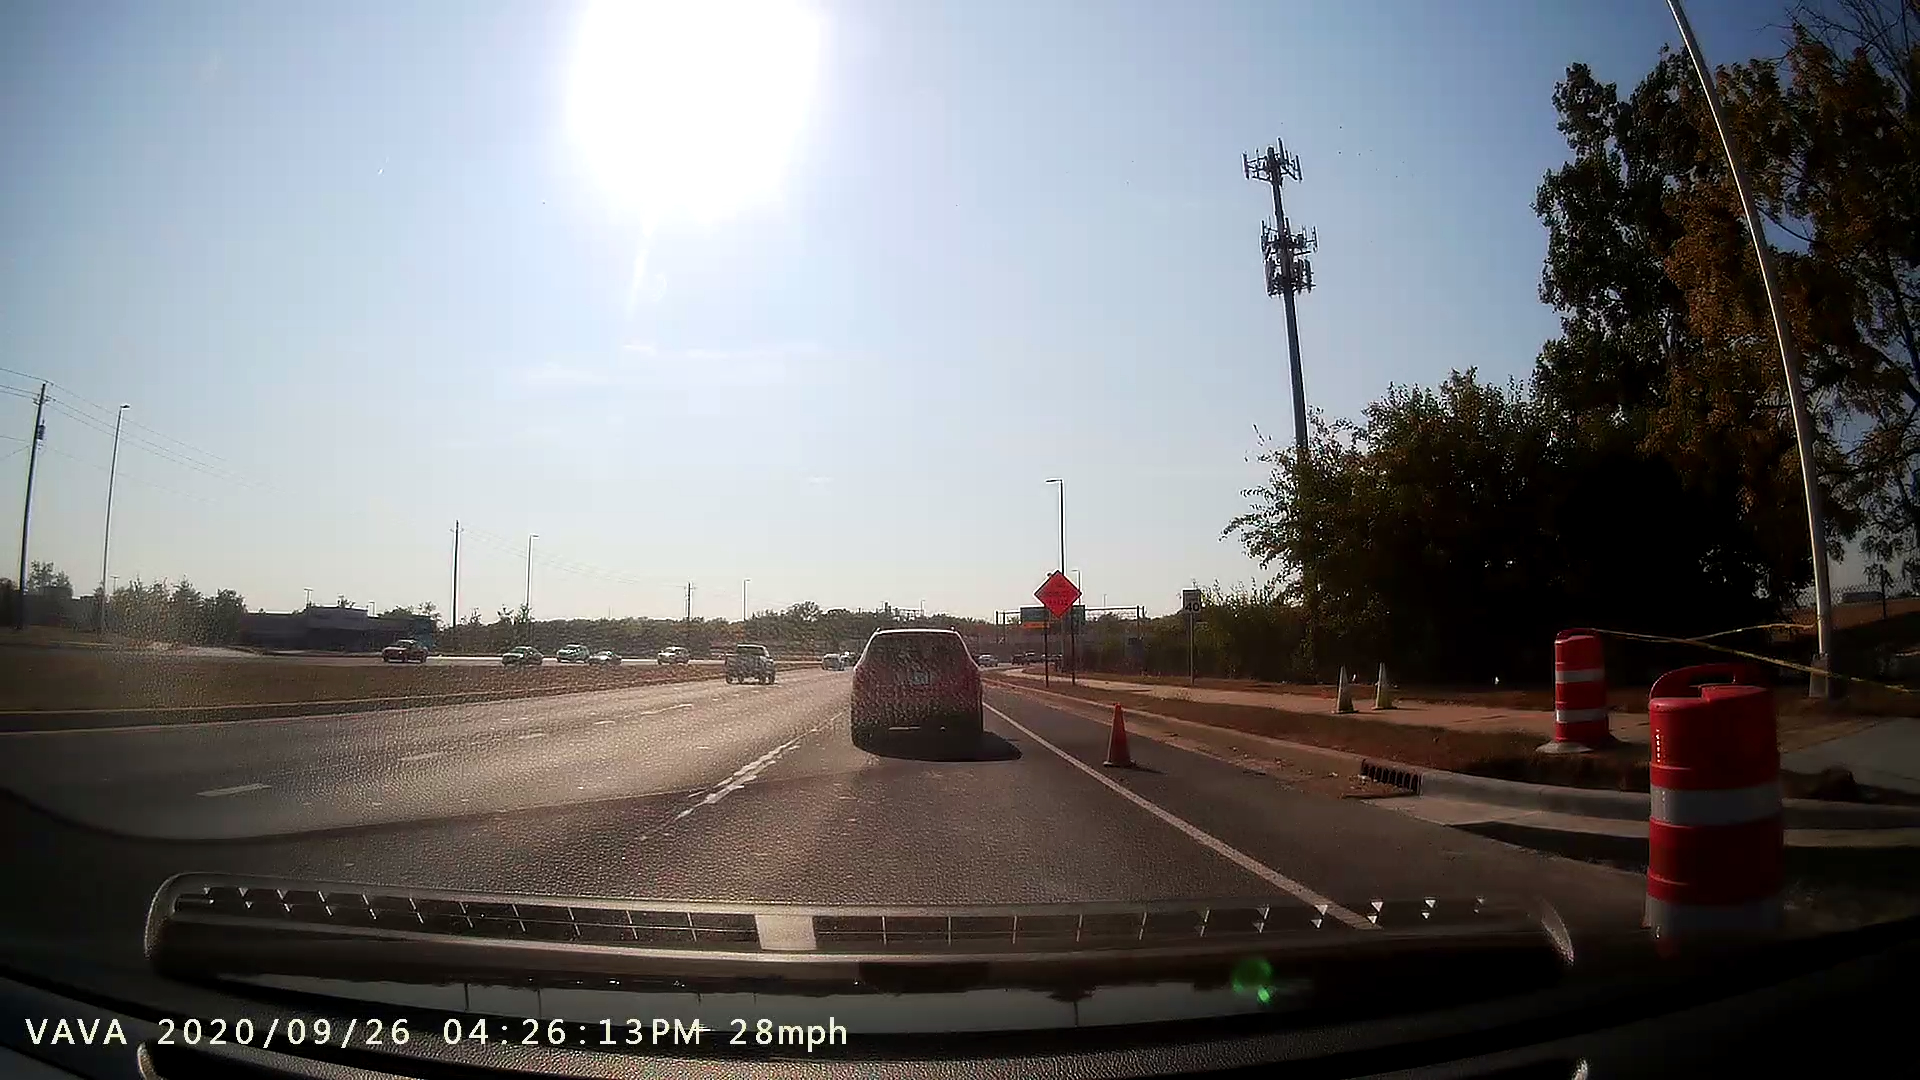const_barrel: (1534, 622, 1630, 762)
const_cone: (1098, 694, 1149, 779), (1331, 655, 1364, 716), (1370, 655, 1400, 715)
